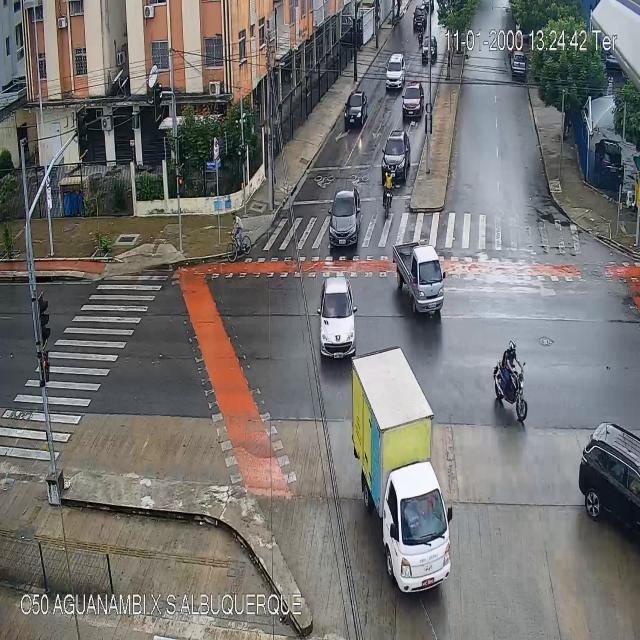Car: (579, 422, 640, 540), (393, 242, 443, 318), (317, 278, 357, 360), (328, 187, 359, 247), (382, 132, 411, 176), (343, 92, 367, 127), (402, 84, 423, 121), (386, 53, 406, 88), (421, 36, 437, 62), (412, 7, 427, 32), (512, 52, 525, 74)
Motorcycle: (494, 341, 528, 422), (382, 172, 392, 219), (418, 21, 423, 47)
Truck: (351, 348, 452, 592)
